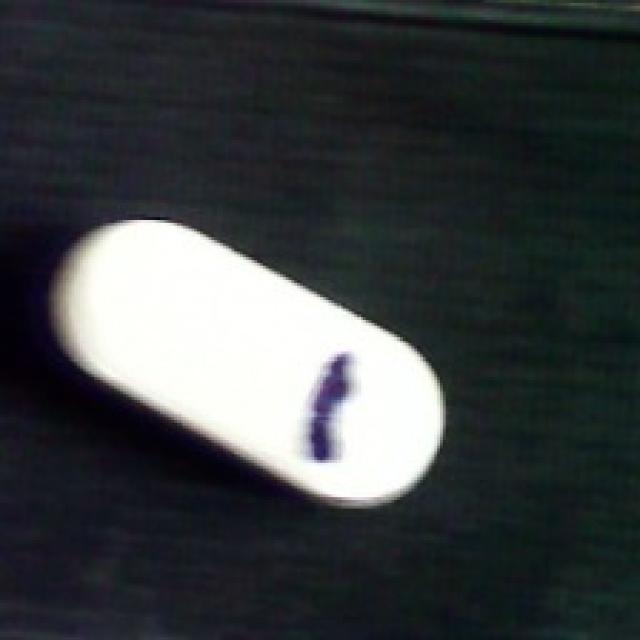defected: (34, 214, 454, 508)
